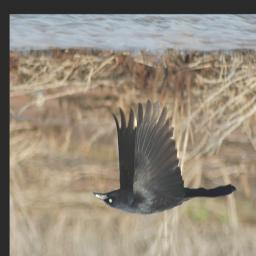Crow: (91, 99, 236, 216)
